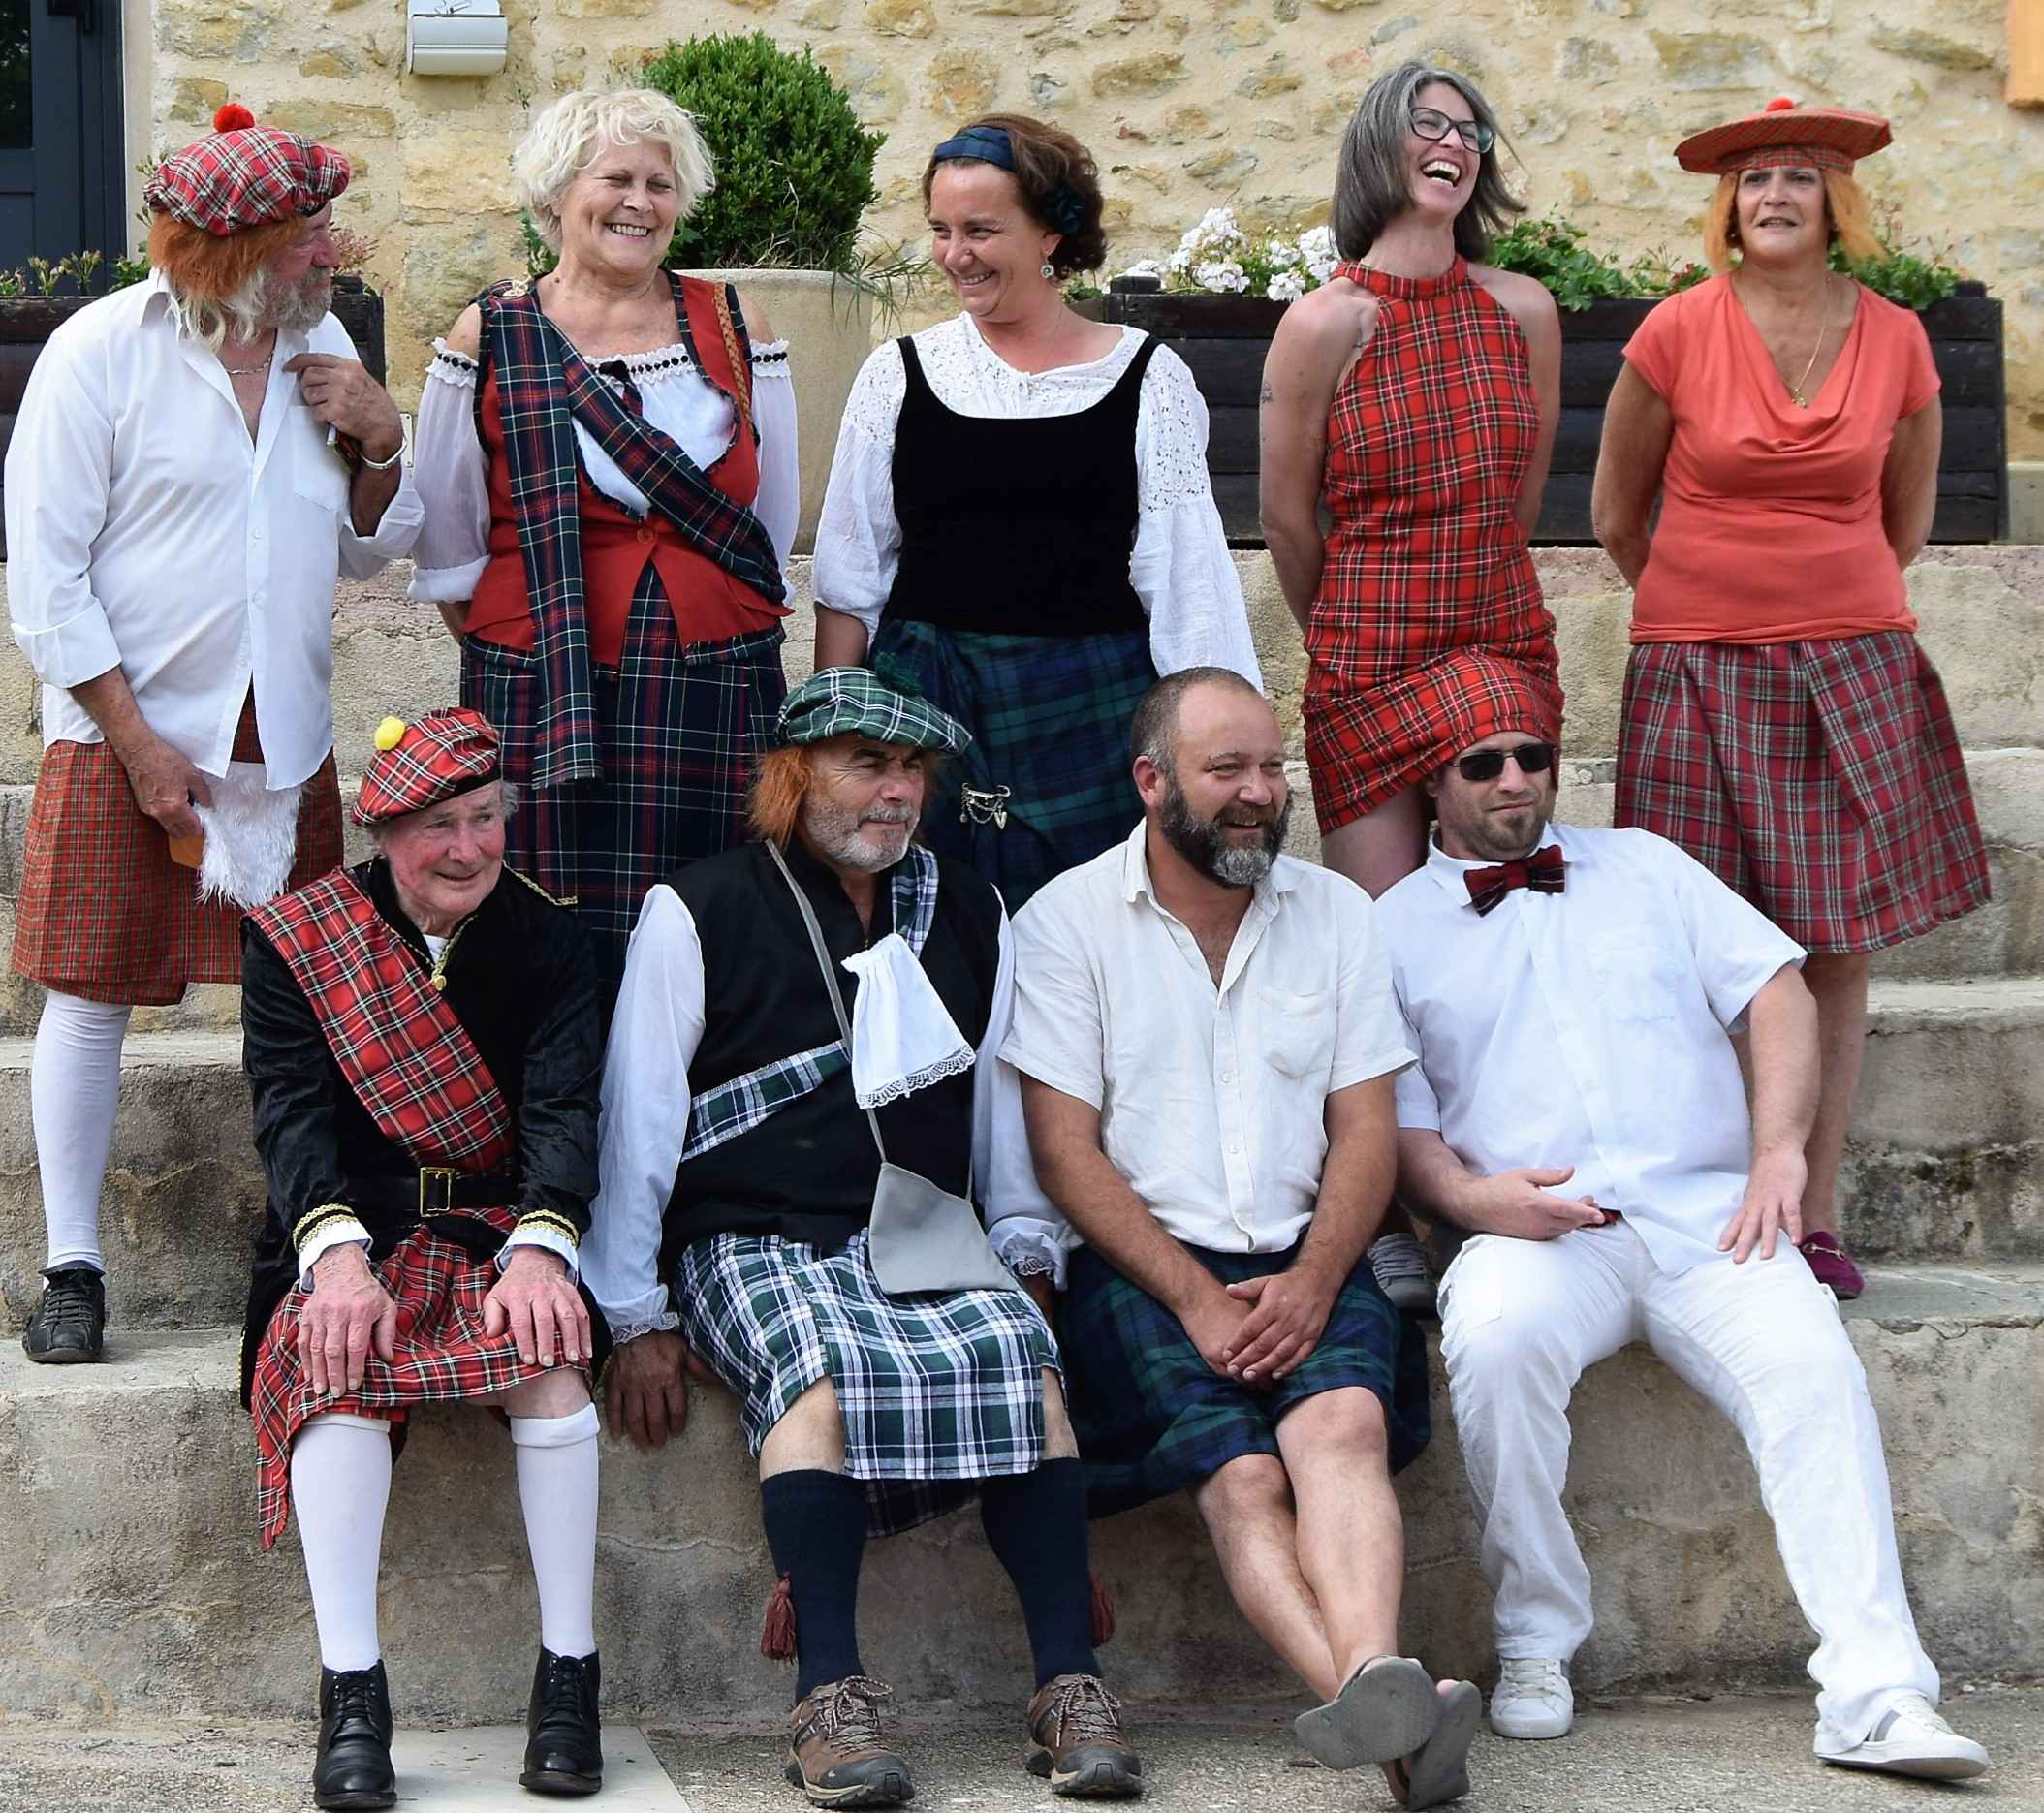without_mask: (241, 181, 336, 319), (1185, 745, 1276, 883), (827, 735, 926, 856), (937, 201, 1044, 315), (1738, 150, 1839, 265), (1468, 735, 1557, 858), (588, 158, 681, 261), (412, 799, 489, 912), (1397, 80, 1468, 197)
